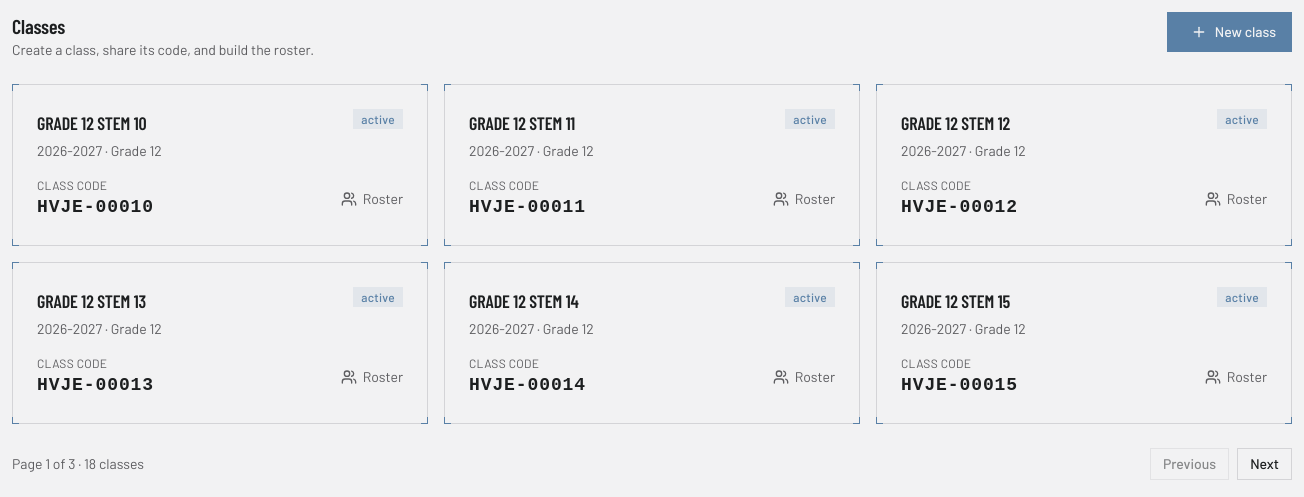
Scenario: ClassListPage › pages without changing the size
The image size is (1304, 497).
Expected: the link "Grade 12 STEM 10" is shown, [37,112,147,134]
What coordinates should you click on to do the following:
click the button "Next"
I would click on:
 (1265, 464)
Its box is [1237,448,1292,480].
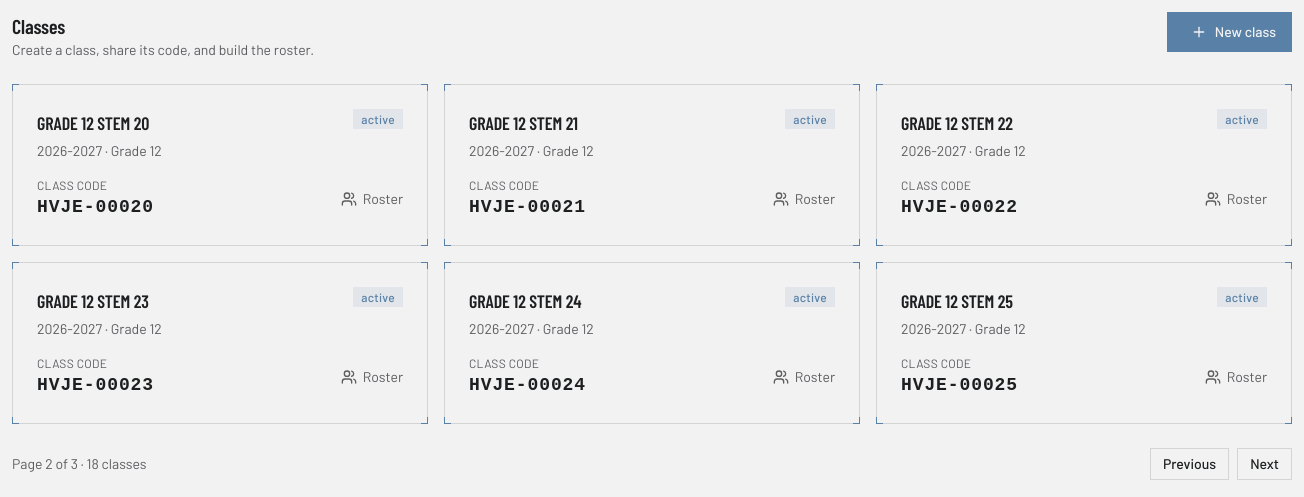
Result: the link "Grade 12 STEM 20" is shown at [37,112,149,134]
